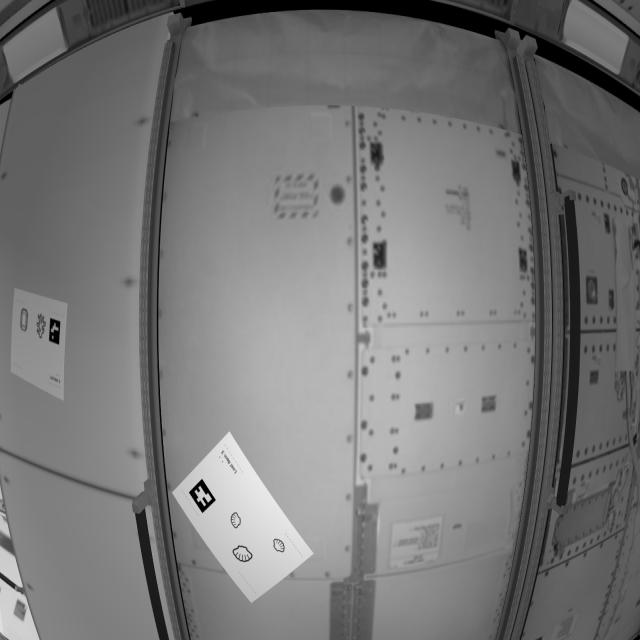coral: (34, 312, 48, 343)
emerald: (19, 307, 32, 338)
shell: (232, 544, 255, 567), (230, 512, 243, 531), (273, 538, 287, 555)
